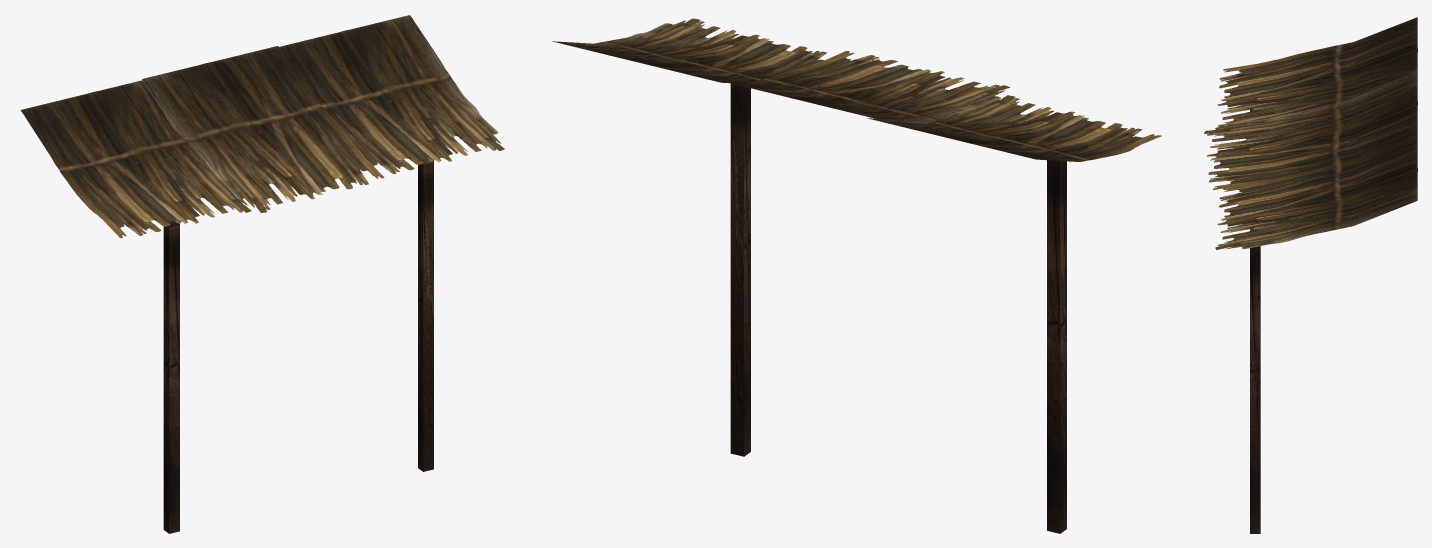
3 views of the same model, side by side, from view 1: azimuth 30°, elevation 25°; view 2: azimuth 150°, elevation 25°; view 3: azimuth 270°, elevation 25° (orthographic). The views are drawn at different scales.
Parts seen in each view (by area): view 1: wj08; view 2: wj08; view 3: wj08.
Boxes of the visible parts, x1,y1,x2,y2 form: wj08: (20,15,504,533); wj08: (552,18,1161,533); wj08: (1204,17,1417,533).
Bounding box in the file's own units: 734 × 662 × 354.
